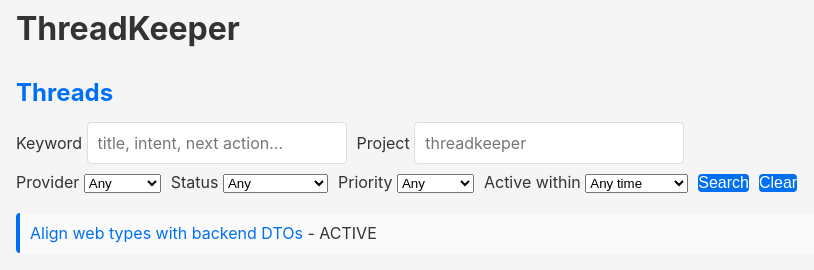
Test: thread search › says no match rather than no threads once filters are applied
The width and height of the screenshot is (814, 270).
Check: the link "Align web types with backend DTOs" is shown, box [30,223,303,243]
In the field labelled "Keyword": [217, 143] box [87,122,347,164], type "nothing matches this"
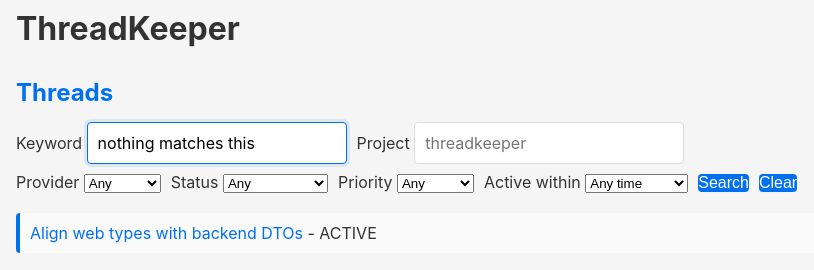
Click the button "Search": [724, 183] box [698,174,749,192]
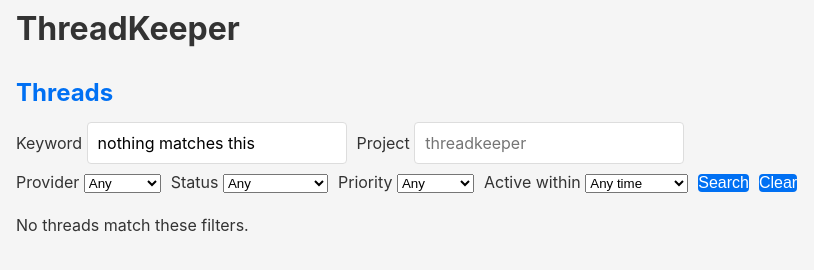
Check: the text "No threads match these filters." is shown, box [16,215,249,235]
